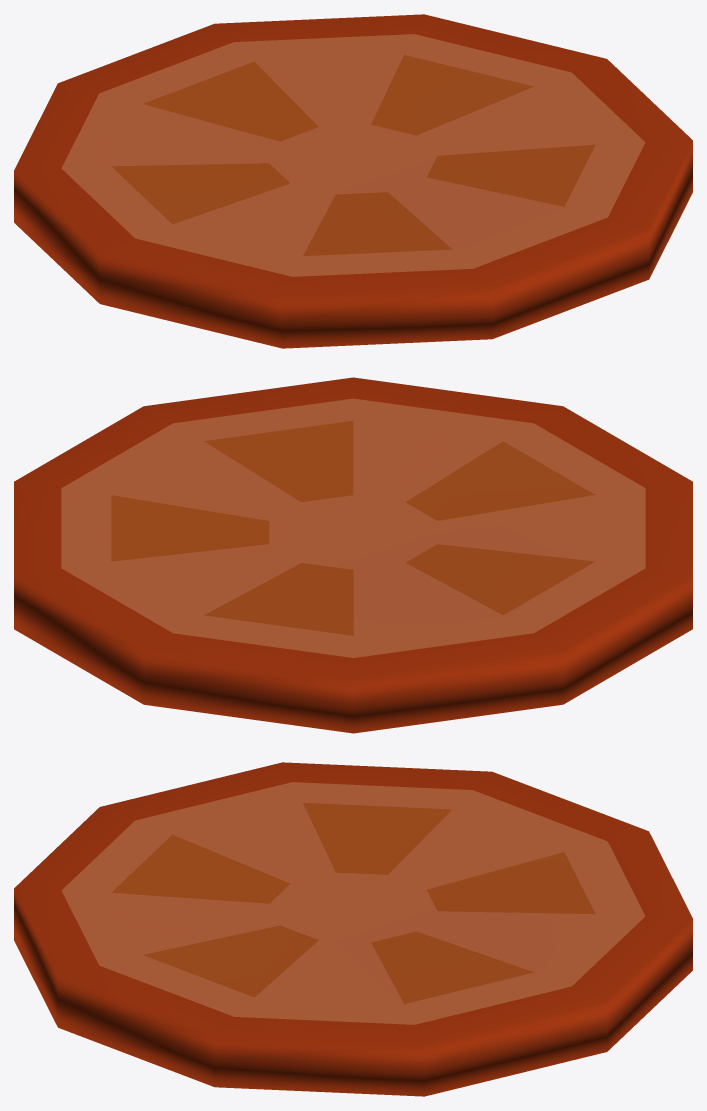
The model's file is tomato2.fbx.
3 renders of one model, top to bottom at view 1: azimuth 30°, elevation 25°; view 2: azimuth 150°, elevation 25°; view 3: azimuth 270°, elevation 25°, orthographic. The views are drawn at different scales.
Parts seen in each view (by area): view 1: tomato.001; view 2: tomato.001; view 3: tomato.001.
Part boxes in pixels (x1,y1,x2,y2): tomato.001: [14, 14, 692, 348]; tomato.001: [14, 377, 692, 733]; tomato.001: [14, 762, 692, 1096].
Size of the model in its own units: 21.72 by 1.87 by 22.09.
